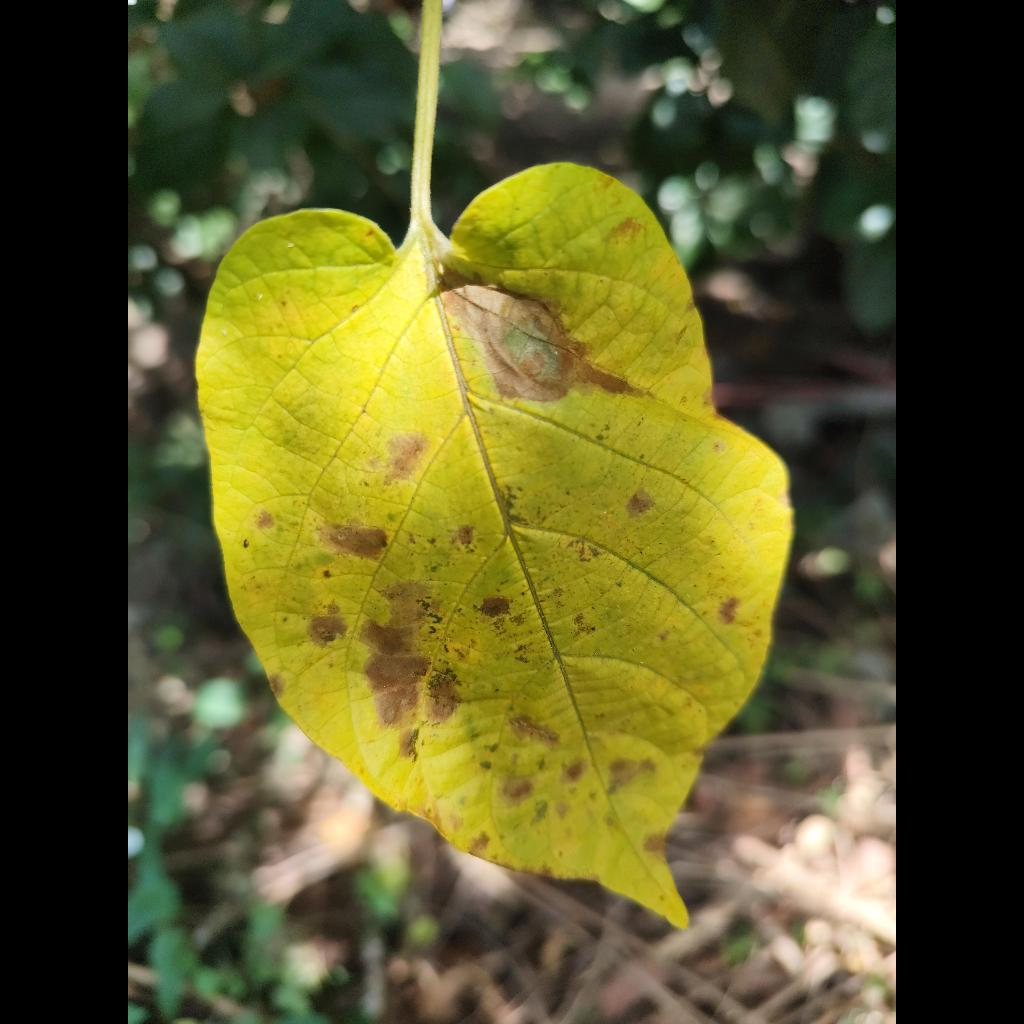deficiencia_nutricional: (198, 0, 791, 926)
